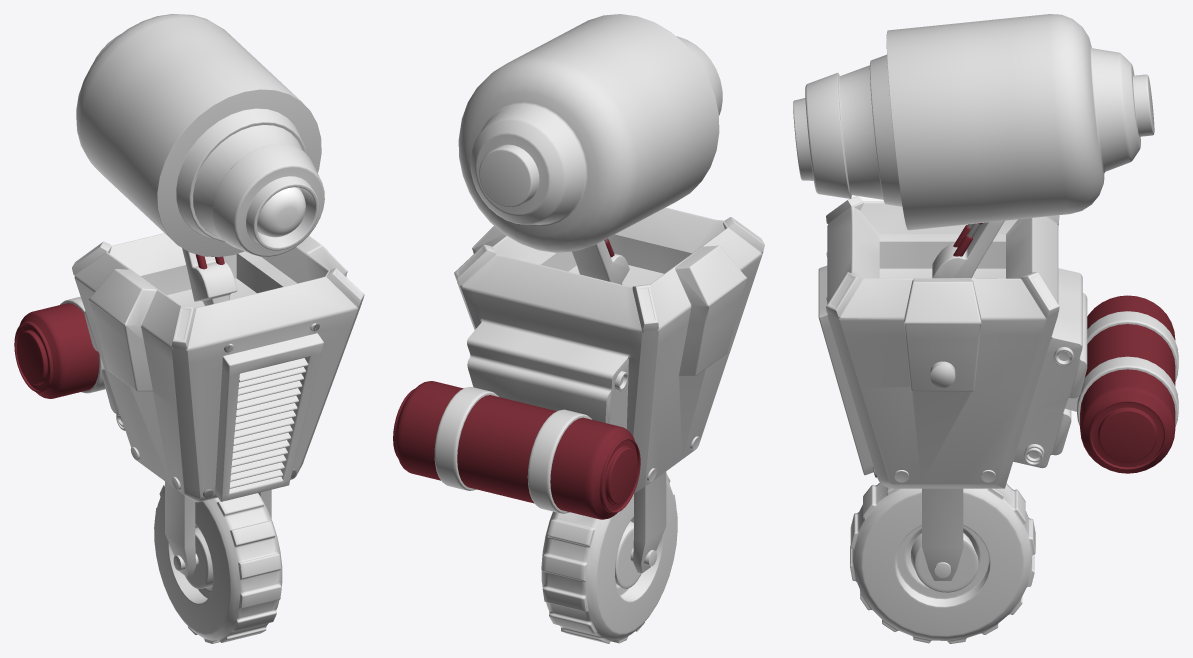
The model's file is Wheel Robot v2.fbx.
3 views of the same model, side by side, from view 1: azimuth 30°, elevation 25°; view 2: azimuth 150°, elevation 25°; view 3: azimuth 270°, elevation 25° (orthographic). The views are drawn at different scales.
Visible parts, largest first — view 1: Body, Head, Tire, Ventilations, Gas tAnk, Neck; view 2: Body, Head, Gas tAnk, Tire, Neck; view 3: Body, Head, Tire, Gas tAnk, Neck, Hand_Axel.
Boxes of the visible parts, box(x1,y1,x2,y2) form: Body: box(72, 233, 364, 577); Head: box(76, 14, 324, 257); Tire: box(154, 485, 282, 643); Ventilations: box(229, 358, 308, 488); Gas tAnk: box(14, 296, 105, 398); Neck: box(182, 248, 237, 305); Body: box(454, 207, 764, 573); Head: box(458, 14, 722, 252); Gas tAnk: box(393, 381, 640, 519); Tire: box(541, 474, 677, 643); Neck: box(572, 238, 629, 284); Body: box(818, 196, 1087, 580); Head: box(793, 14, 1154, 230); Tire: box(850, 483, 1035, 643); Gas tAnk: box(1065, 295, 1178, 473); Neck: box(932, 220, 1004, 278); Hand_Axel: box(930, 361, 955, 387).
Size of the model in its own units: 54.89 by 136 by 77.64.
